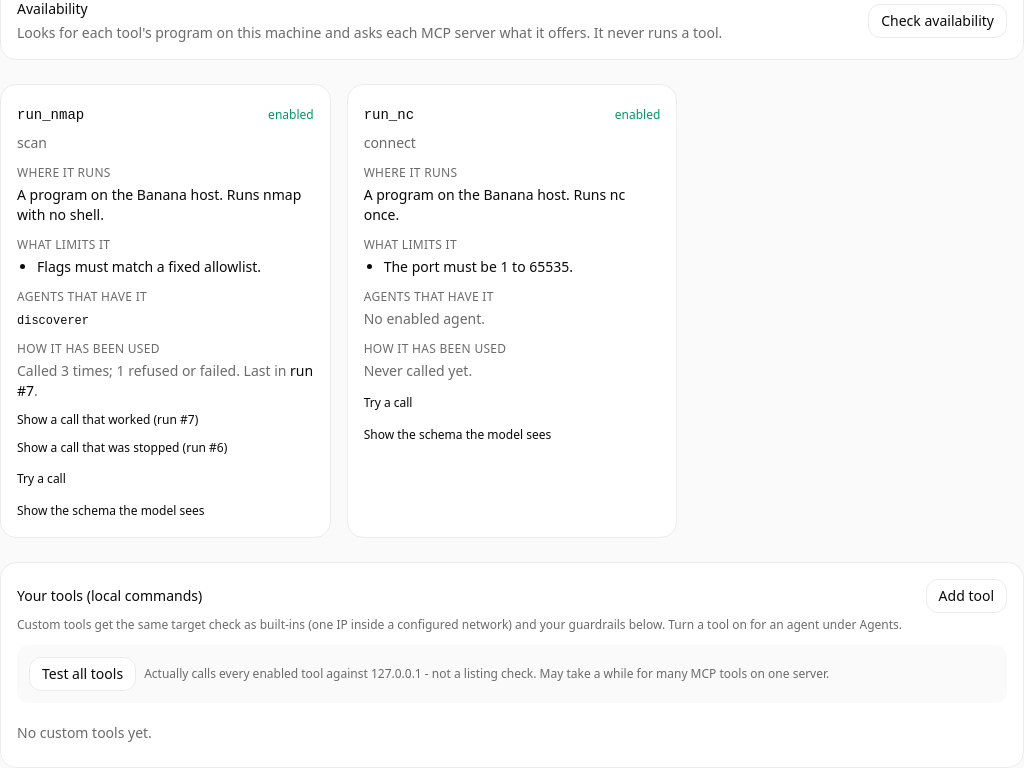
AiToolsPage availability › explains where each tool runs, what limits it, who has it and how it has been used
(page scrolled)
Expected: the text "Runs nmap with no shell." is shown, left=17, top=185, right=301, bottom=224
Expected: the list item "Flags must match a fixed allowlist." is shown, left=37, top=257, right=261, bottom=276
Click the button "Show a call that was stopped (run #6)". click: coordinates (122, 448)
box: left=17, top=440, right=227, bottom=456
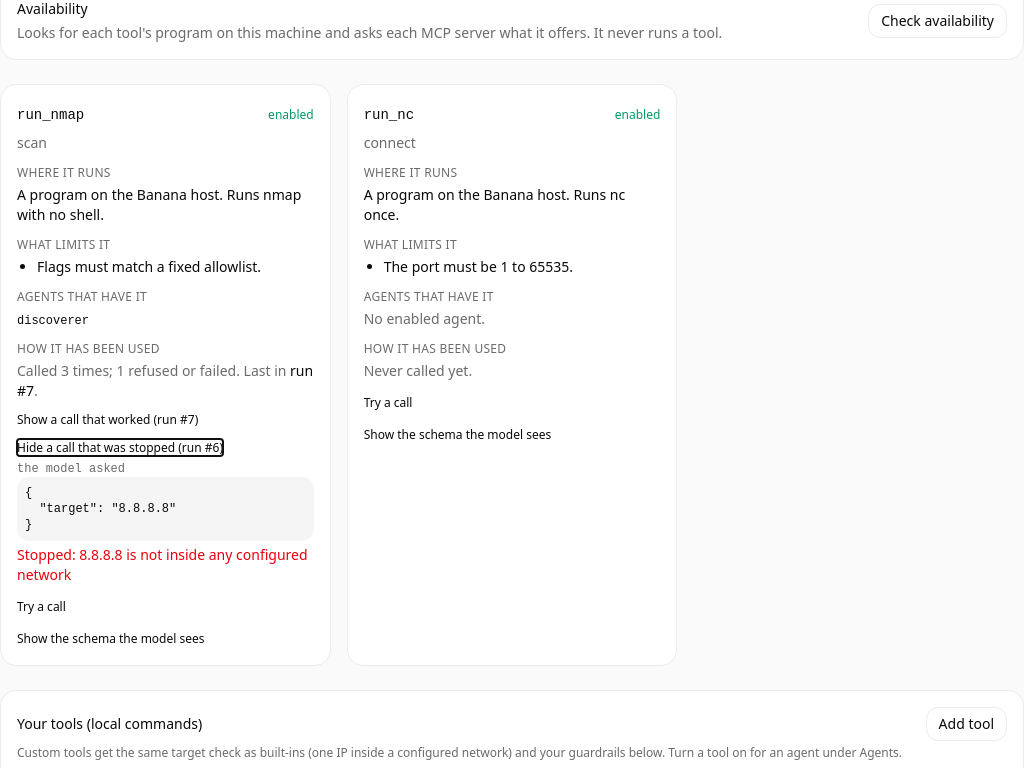
Result: the text "Stopped: 8.8.8.8 is not inside any configured network" is shown at left=17, top=545, right=314, bottom=585
